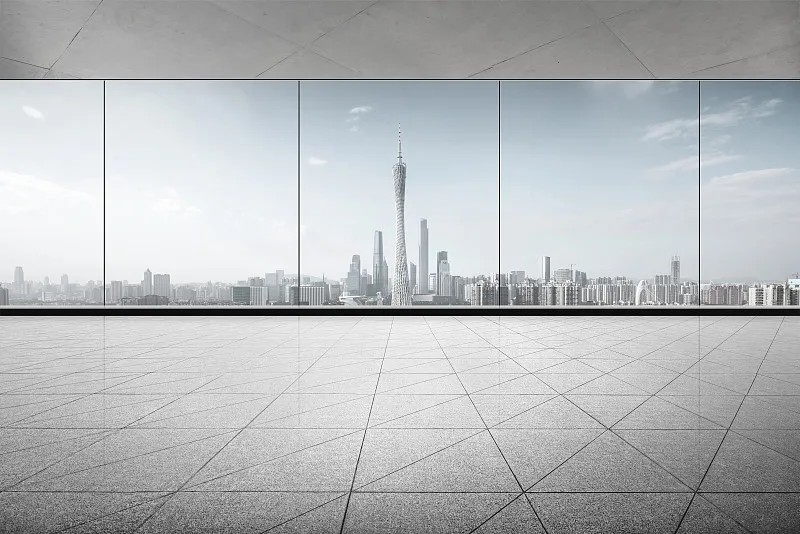Canton: (389, 121, 411, 309)
